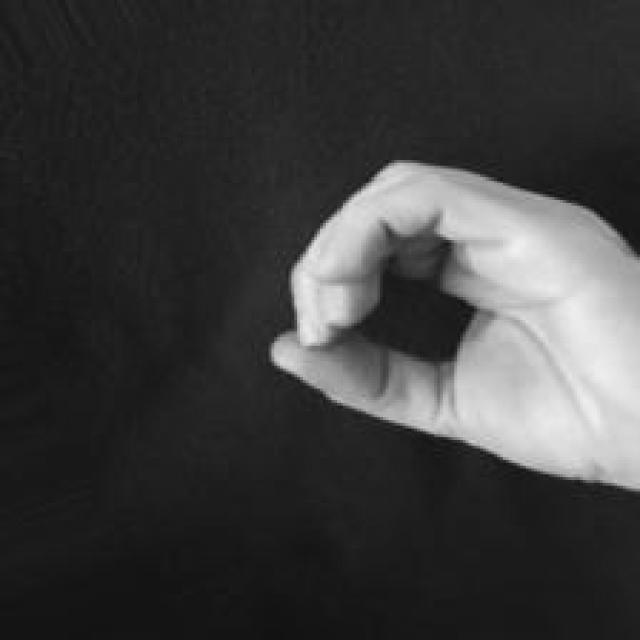O: (263, 134, 640, 503)
